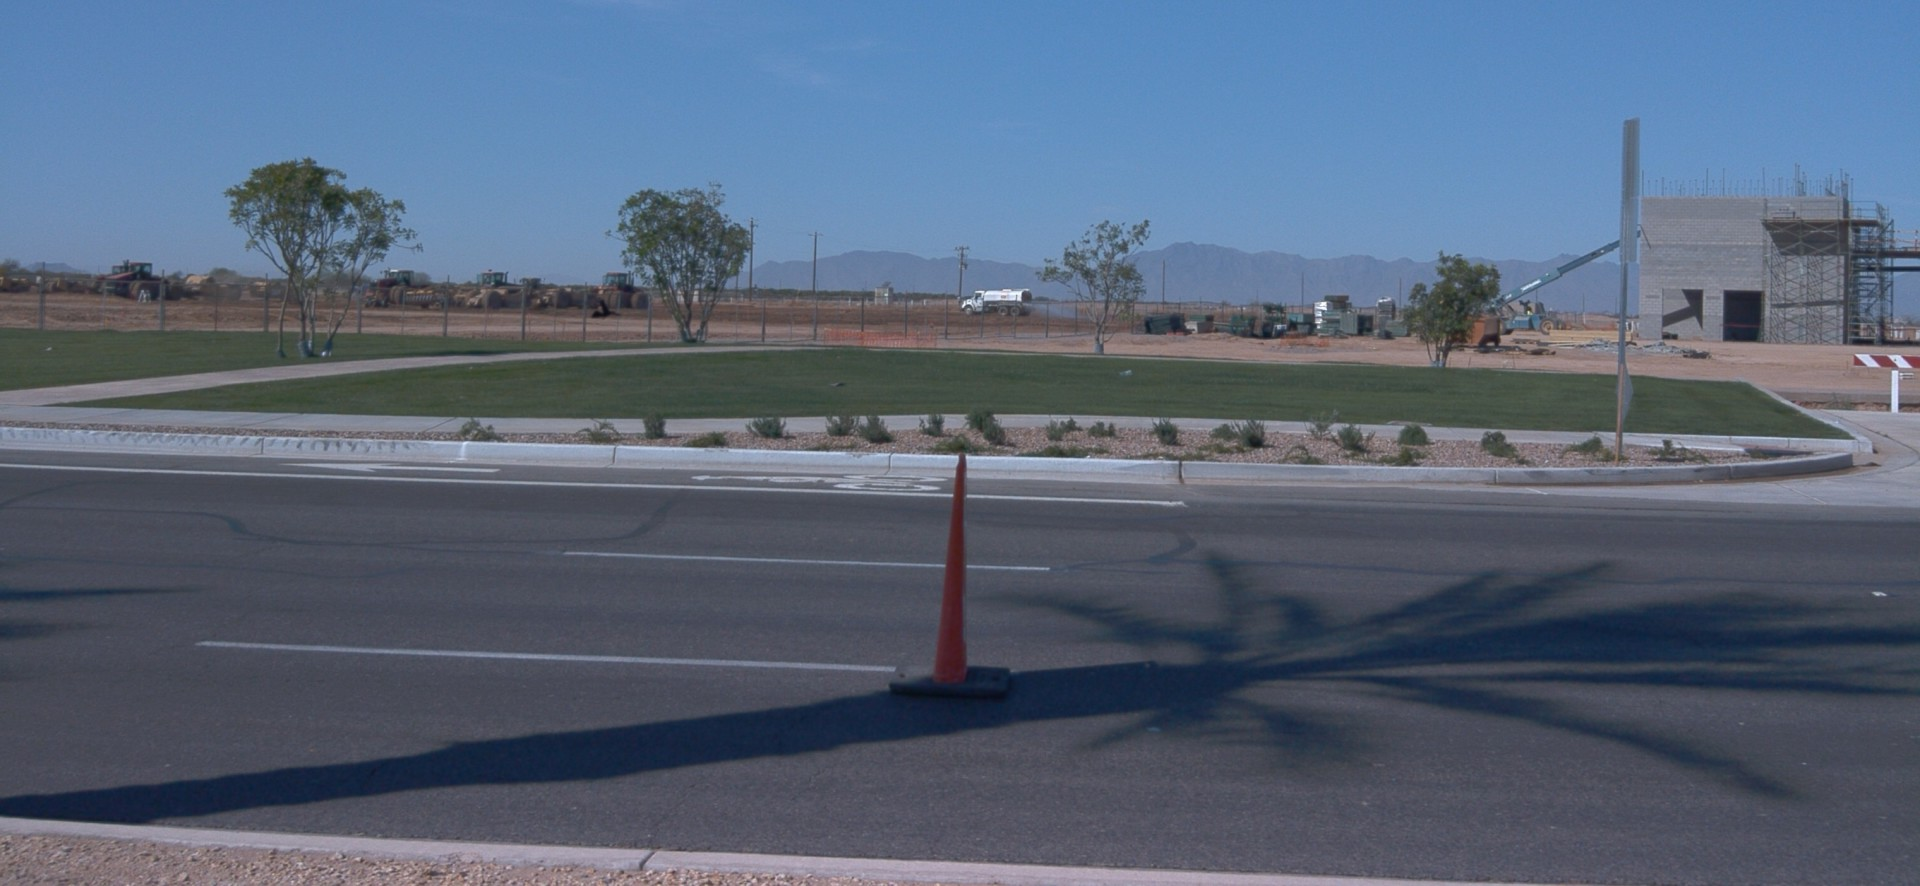TYPE_VEHICLE: (1485, 223, 1644, 339), (1485, 223, 1644, 339), (1485, 223, 1644, 339), (1485, 223, 1644, 339), (99, 261, 186, 301), (99, 261, 186, 301), (99, 261, 186, 301), (99, 261, 186, 301), (362, 267, 427, 311), (362, 267, 427, 311), (362, 267, 427, 311), (362, 267, 427, 311), (588, 272, 653, 313), (588, 272, 653, 313), (588, 272, 653, 313), (588, 272, 653, 313), (459, 267, 514, 312), (459, 267, 514, 312), (459, 267, 514, 312), (459, 267, 514, 312), (960, 288, 1033, 318), (960, 288, 1033, 318), (960, 288, 1033, 318), (960, 288, 1033, 318), (403, 281, 470, 313), (403, 281, 470, 313), (403, 281, 470, 313), (403, 281, 470, 313), (468, 286, 550, 310), (468, 286, 550, 310), (468, 286, 550, 310), (468, 286, 550, 310), (82, 263, 131, 294), (82, 263, 131, 294), (82, 263, 131, 294), (82, 263, 131, 294), (2, 274, 67, 295), (2, 274, 67, 295), (2, 274, 67, 295), (2, 274, 67, 295), (350, 284, 367, 295), (350, 284, 367, 295), (350, 284, 367, 295), (350, 284, 367, 295)
